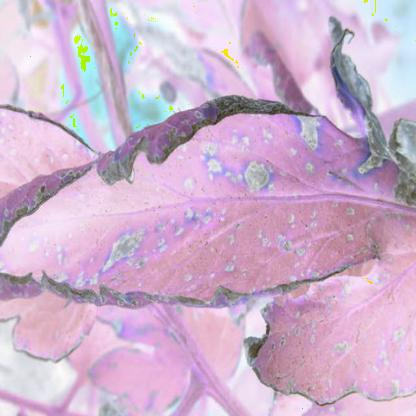tomato septoria leaf spot: (5, 80, 413, 406)
